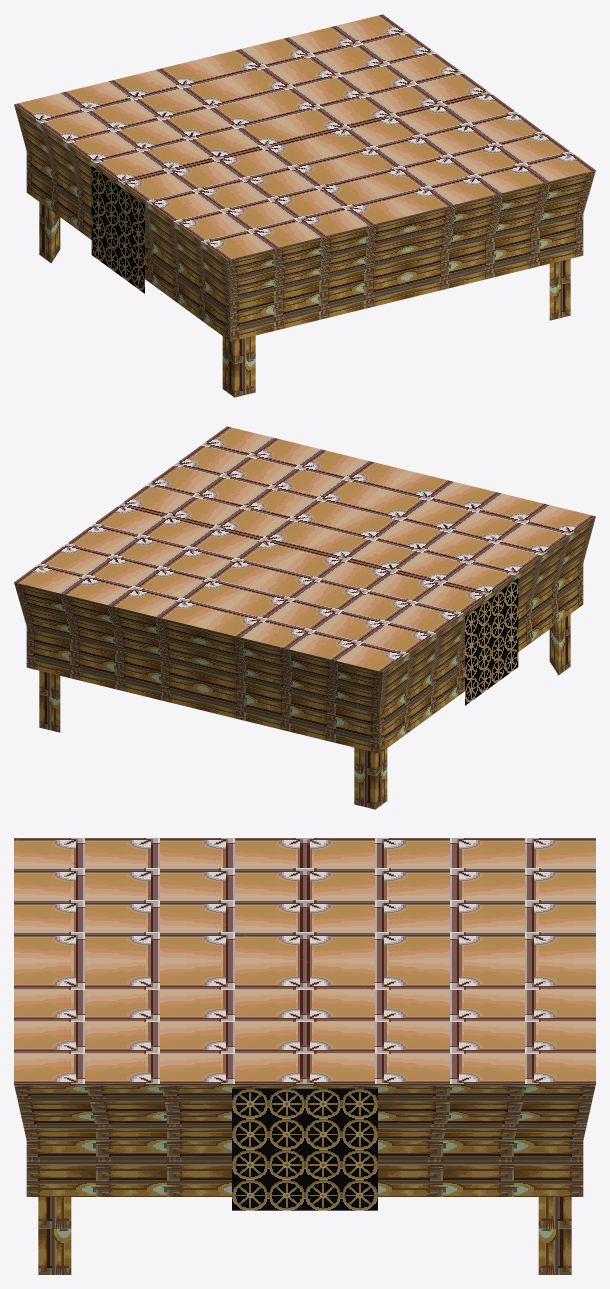
The picture shows the model from 3 angles, top to bottom: view 1: azimuth 30°, elevation 25°; view 2: azimuth 150°, elevation 25°; view 3: azimuth 270°, elevation 25°; orthographic projection. The views are drawn at different scales.
Parts seen in each view (by area): view 1: 3606kg_17_ta0; view 2: 3606kg_17_ta0; view 3: 3606kg_17_ta0.
Boxes of the visible parts, x1,y1,x2,y2 form: 3606kg_17_ta0: (14,14,595,397); 3606kg_17_ta0: (14,426,595,809); 3606kg_17_ta0: (14,838,595,1274).
Bounding box in the file's own units: 1.97 × 0.7471 × 1.95.
Materials: 3 (3 with a texture image).
